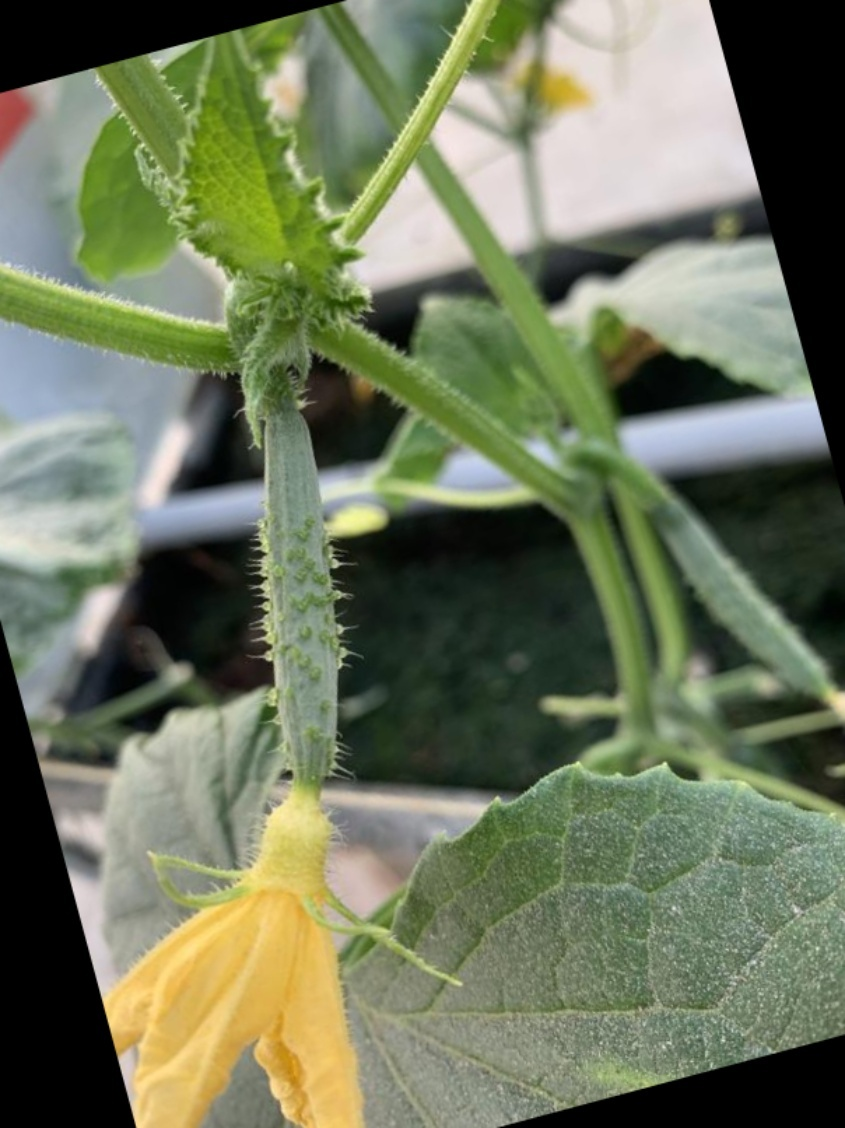bear: (0, 375, 387, 1126)
